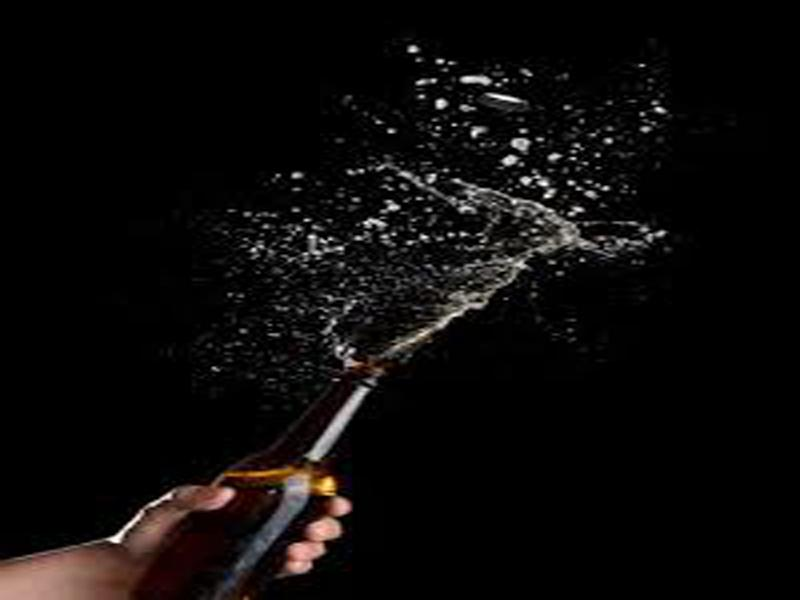Beer: (123, 364, 391, 598)
